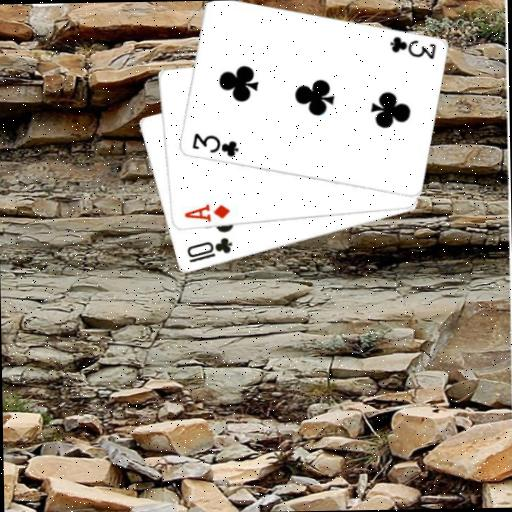10C: (183, 235, 234, 266)
3C: (188, 129, 240, 160), (387, 33, 438, 62)
AD: (181, 201, 231, 224)
